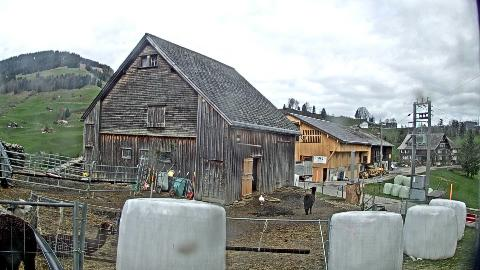car: (390, 162, 396, 172)
sheep: (37, 220, 114, 260), (0, 214, 38, 270), (0, 198, 34, 222), (302, 186, 318, 216), (252, 177, 256, 183)
